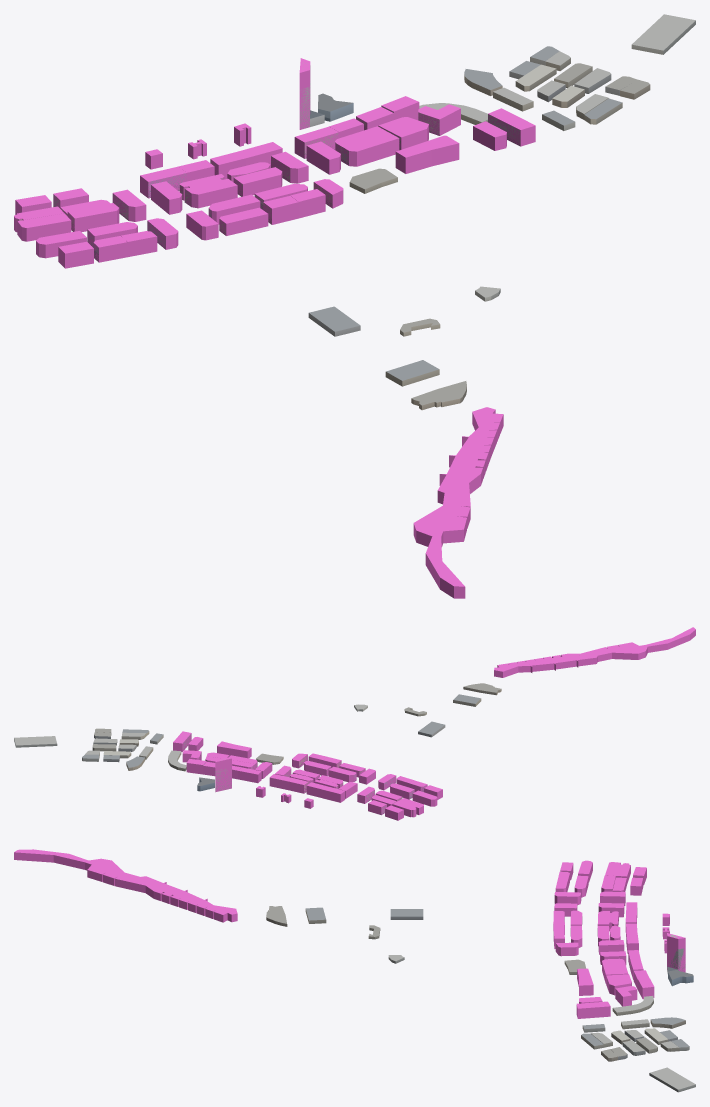
File: bld_14_7.fbx
The picture shows the model from 3 angles, top to bottom: view 1: azimuth 30°, elevation 25°; view 2: azimuth 150°, elevation 25°; view 3: azimuth 270°, elevation 25°; orthographic projection. The views are drawn at different scales.
Parts seen in each view (by area): view 1: bld_14_7_COL, bld_14_7_LOD0; view 2: bld_14_7_COL, bld_14_7_LOD0; view 3: bld_14_7_COL, bld_14_7_LOD0.
Boxes of the visible parts, x1,y1,x2,y2 form: bld_14_7_COL: (14, 58, 535, 598); bld_14_7_LOD0: (19, 14, 695, 410); bld_14_7_COL: (173, 627, 695, 820); bld_14_7_LOD0: (14, 683, 501, 814); bld_14_7_COL: (14, 849, 685, 1018); bld_14_7_LOD0: (266, 906, 695, 1092).
Size of what is drawn, in the model's own units: 1973 by 140 by 2414.
